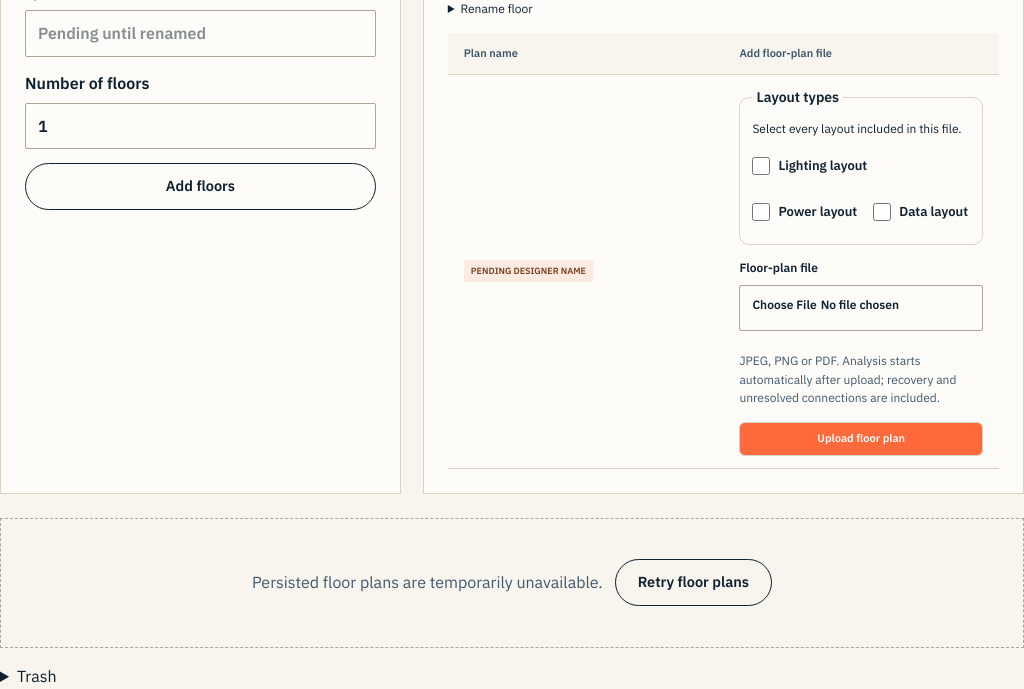
Test: project floor upload panel › shows safe persisted-plan errors and retries
(page scrolled)
expect the text "Persisted floor plans are temporarily unavailable." is shown: met, box left=252, top=570, right=603, bottom=595
What coordinates should you click on to do the following:
click the button "Retry floor plans"
I would click on:
 (693, 583)
Its box is left=615, top=560, right=772, bottom=606.
(page scrolled)
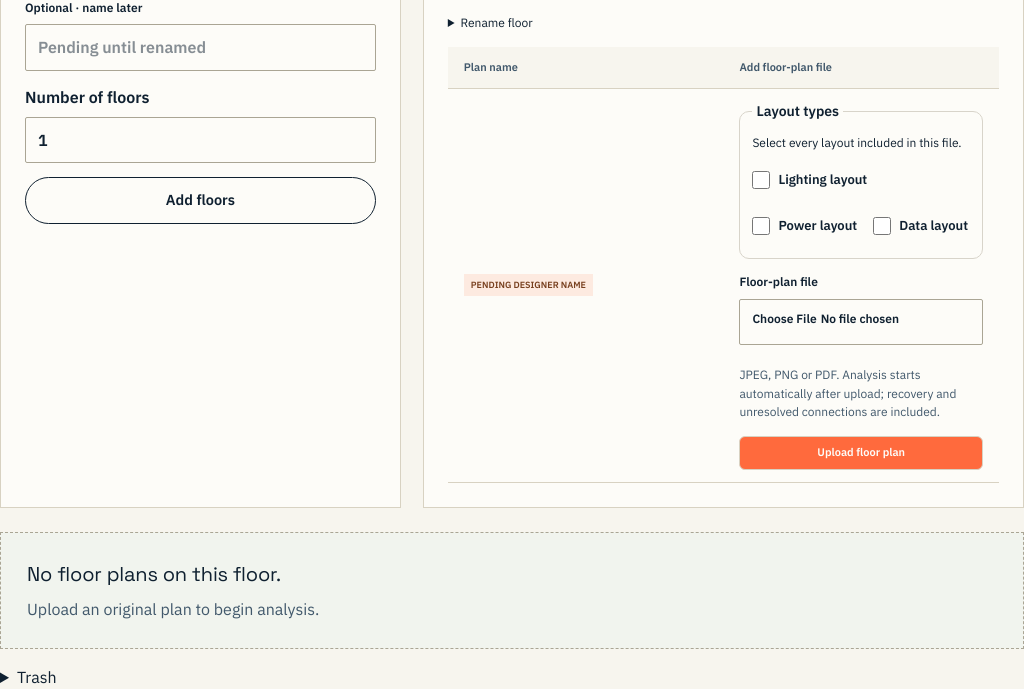
expect the heading "No floor plans on this floor." is shown: met, box left=27, top=561, right=281, bottom=587
